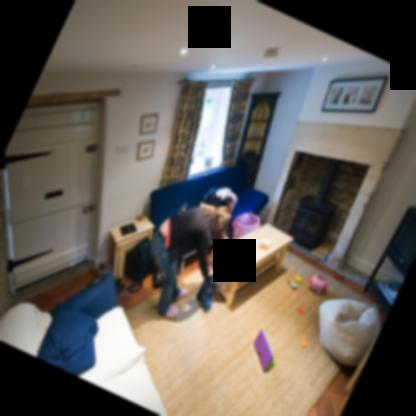backpack: (125, 239, 154, 294)
